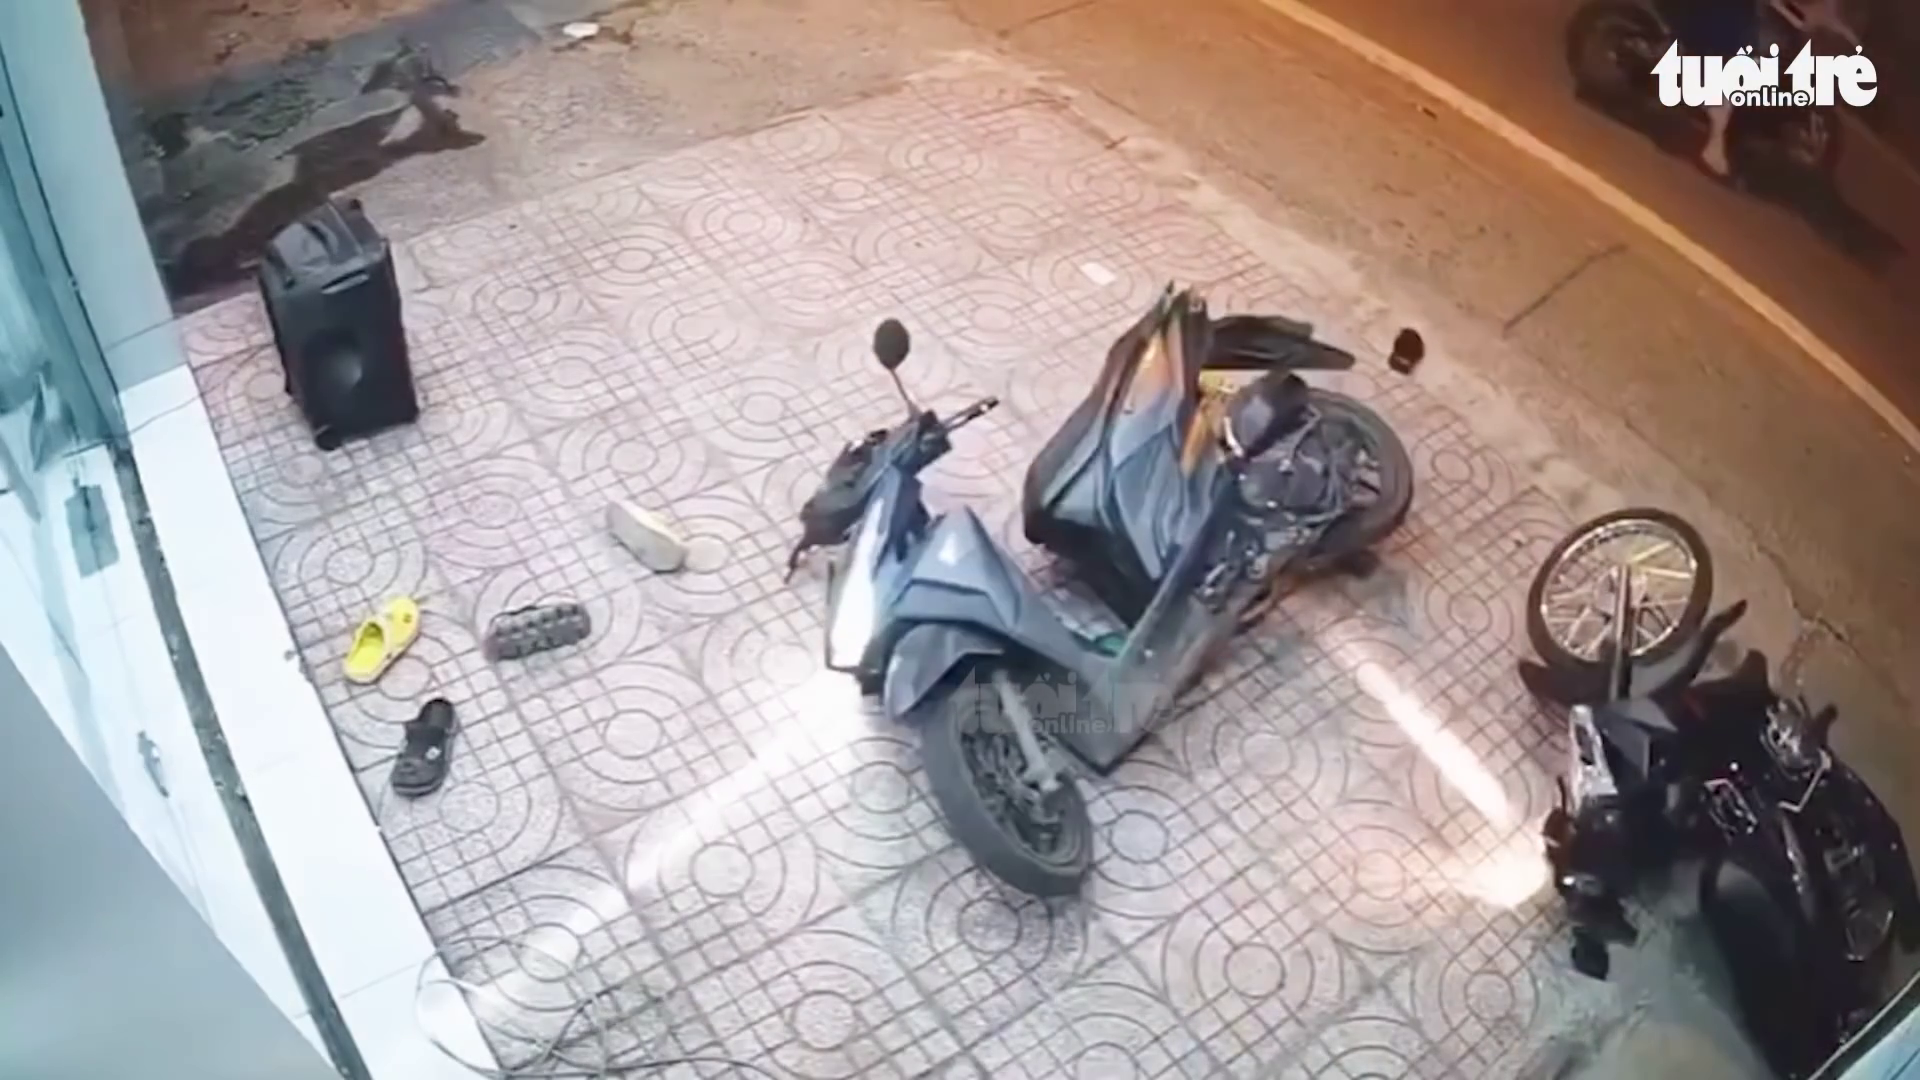Motorcycle: (785, 281, 1427, 899), (1515, 508, 1920, 1067)
